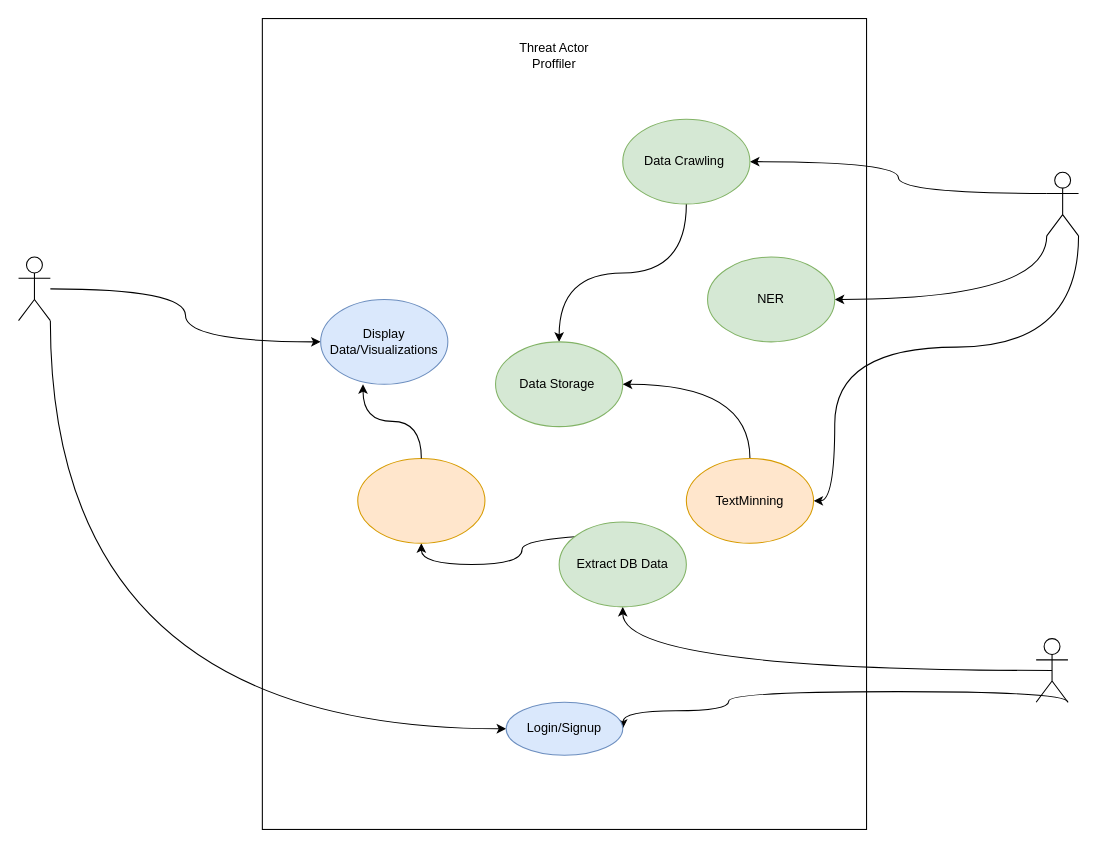
This 1102x848 diagram has some shape labels left out. Here are the shapes that lost their labels. From the top down, the centre of each, then its label:
the point at 1062,203: System
the point at 33,288: User
the point at 421,500: Data Visualizer
the point at 1051,670: APT admin
